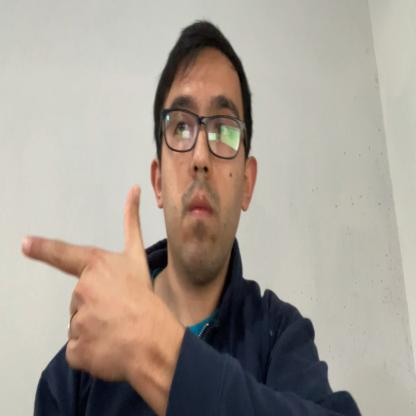G: (22, 183, 148, 383)
